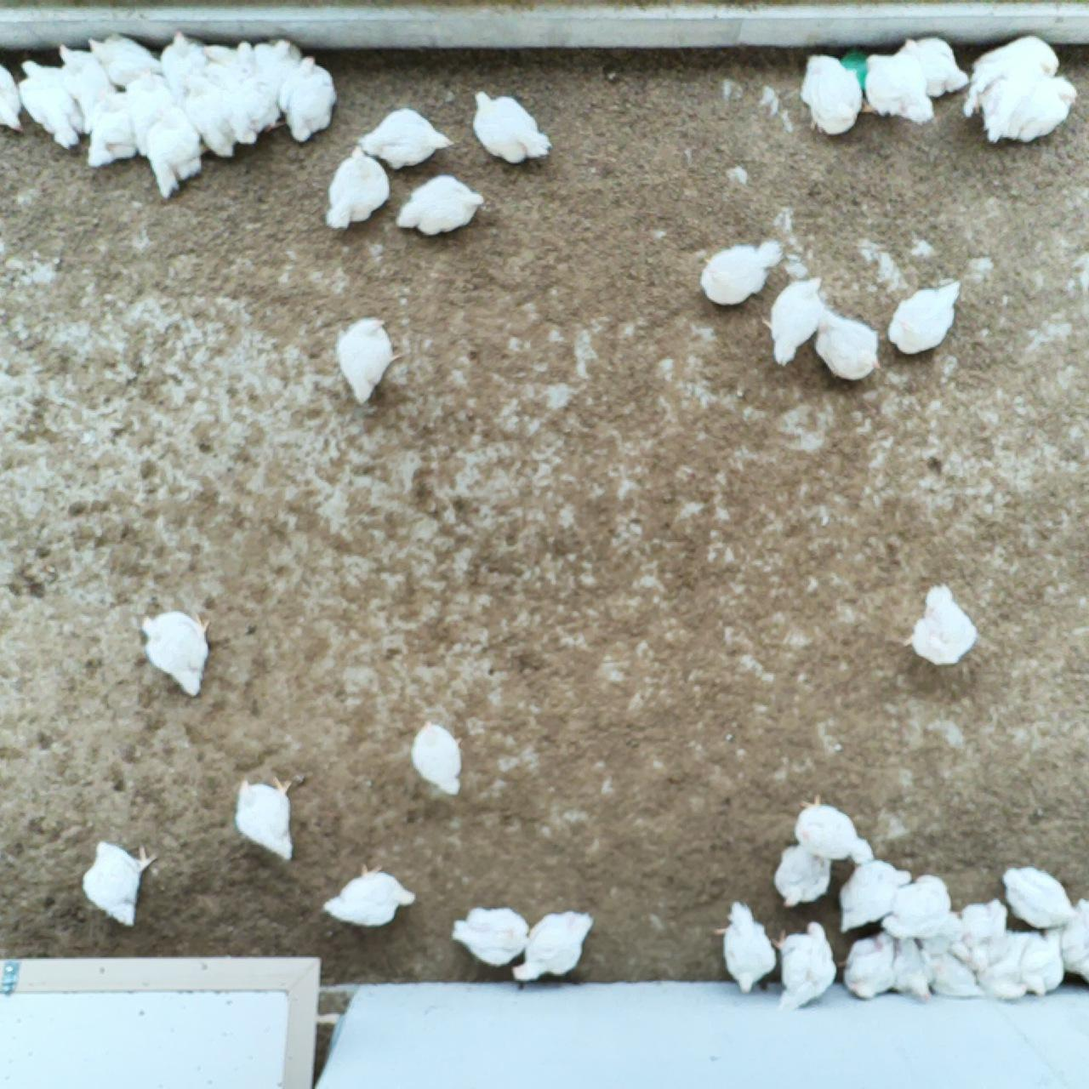chicken: (959, 34, 1061, 125), (977, 64, 1078, 154), (898, 576, 983, 671), (470, 83, 559, 171), (694, 234, 789, 315), (333, 312, 409, 412), (753, 272, 828, 373), (319, 858, 420, 933), (217, 41, 288, 147), (78, 835, 158, 928), (509, 906, 598, 989), (706, 897, 780, 996), (353, 103, 458, 171), (837, 854, 922, 938), (229, 772, 304, 867), (140, 607, 216, 700), (768, 918, 840, 1016), (794, 51, 866, 148), (55, 40, 124, 141), (140, 100, 206, 204), (792, 790, 878, 869), (391, 172, 489, 241), (319, 141, 392, 233), (17, 57, 87, 152), (882, 278, 963, 357), (276, 52, 340, 150), (859, 53, 939, 128), (812, 306, 886, 386), (448, 902, 531, 970), (879, 871, 953, 945), (894, 30, 971, 101), (181, 67, 238, 161), (123, 62, 176, 158), (998, 862, 1074, 927), (409, 718, 468, 800), (771, 839, 837, 912), (87, 31, 164, 92), (840, 926, 899, 1003), (957, 893, 1011, 976), (83, 87, 136, 169), (156, 27, 214, 98), (253, 33, 305, 112), (917, 942, 983, 1002), (980, 926, 1032, 1002), (1019, 926, 1070, 1001), (888, 933, 935, 1006), (1054, 897, 1089, 985), (922, 908, 975, 965), (199, 38, 237, 93), (0, 62, 26, 139)
